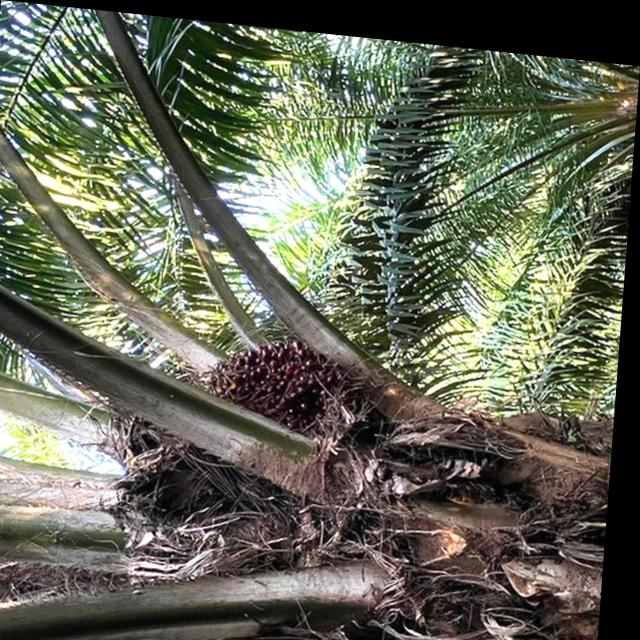ripe: (208, 329, 330, 414)
